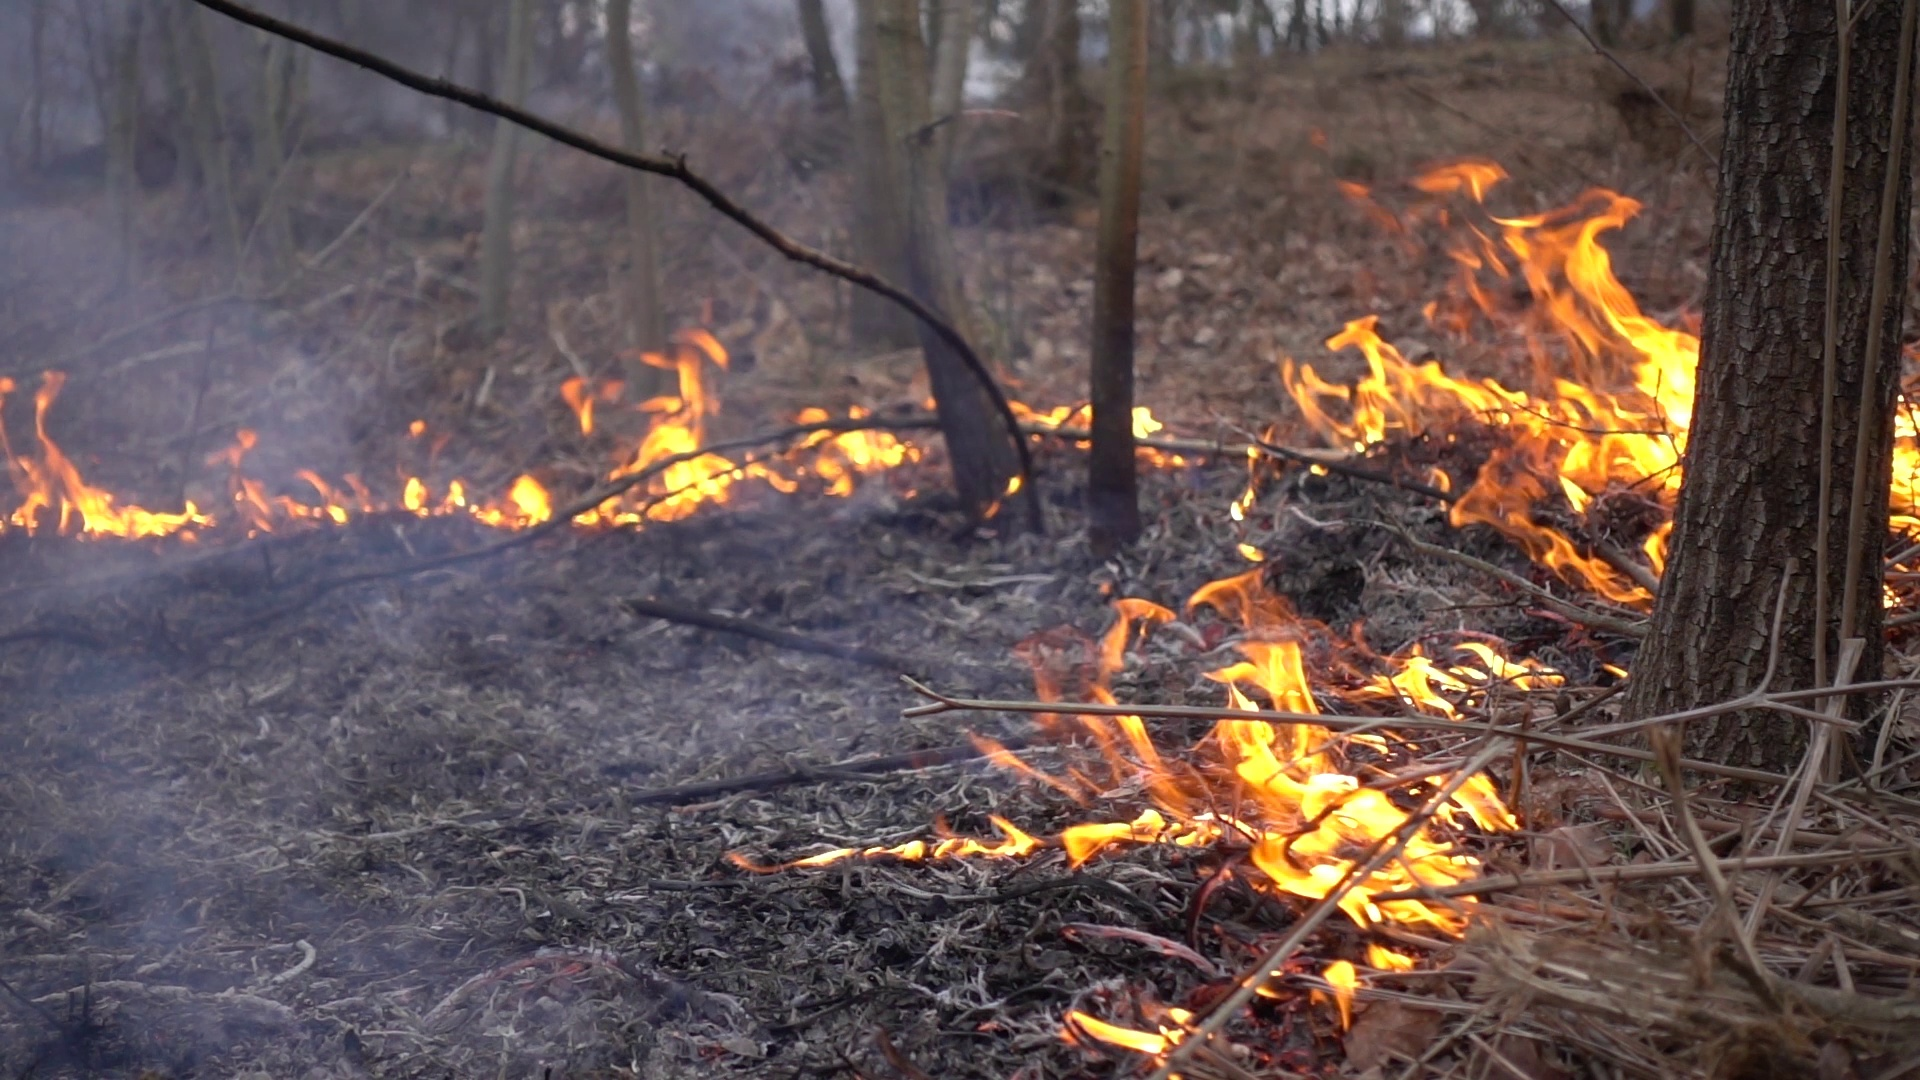fire: (913, 570, 1565, 1002), (1261, 166, 1702, 584), (582, 407, 736, 527), (1, 458, 193, 538), (789, 396, 899, 485), (1887, 404, 1916, 520), (401, 483, 476, 517), (509, 473, 547, 524)
